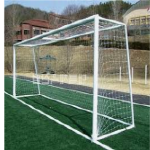goals: (12, 13, 137, 142)
